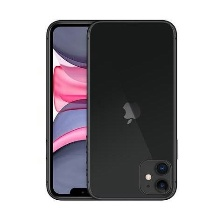phone: (84, 18, 182, 203), (42, 19, 130, 204)
